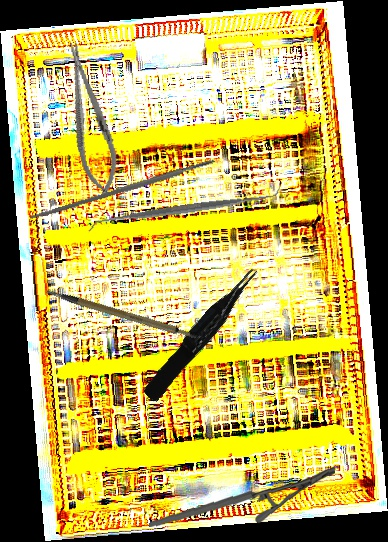Needle Holder: (149, 456, 336, 537), (56, 38, 125, 201)
Scalpel Handle: (45, 265, 200, 360), (29, 157, 216, 223)
Spatula Surgical: (85, 185, 283, 234)
Tissue Forceps: (136, 264, 269, 404)
